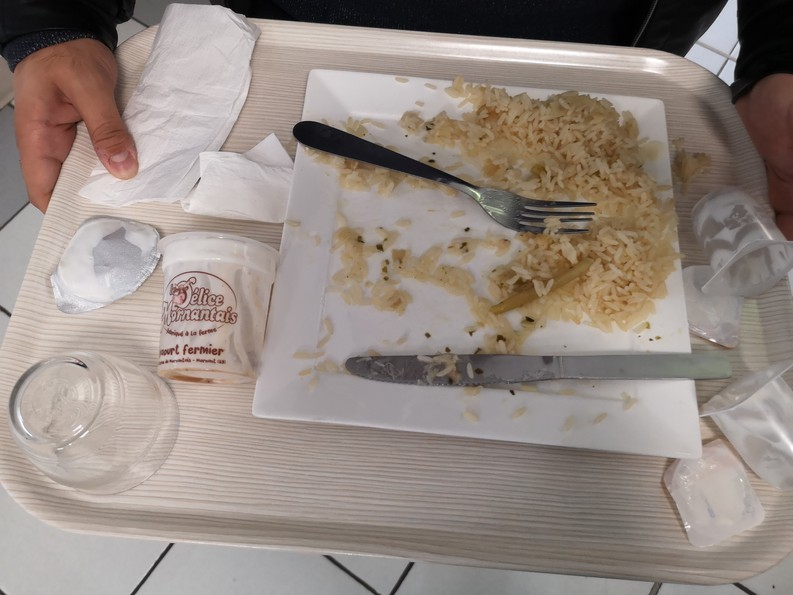cup: (1, 346, 196, 508)
cutlery: (281, 113, 609, 242), (345, 345, 790, 397)
orga: (440, 77, 660, 206), (509, 234, 665, 336)
trash: (71, 1, 270, 203), (156, 234, 279, 381), (695, 363, 793, 536), (688, 183, 793, 292), (44, 216, 154, 304), (196, 138, 304, 218), (680, 267, 755, 351)
